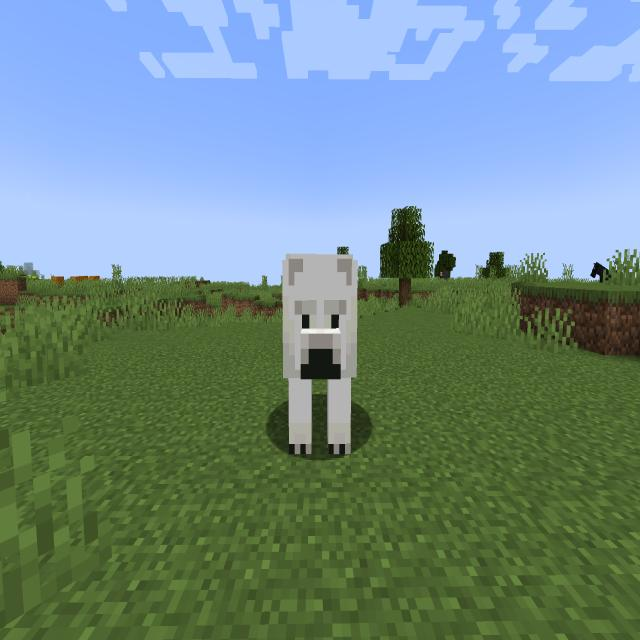Polar Bear: (272, 239, 371, 475)
